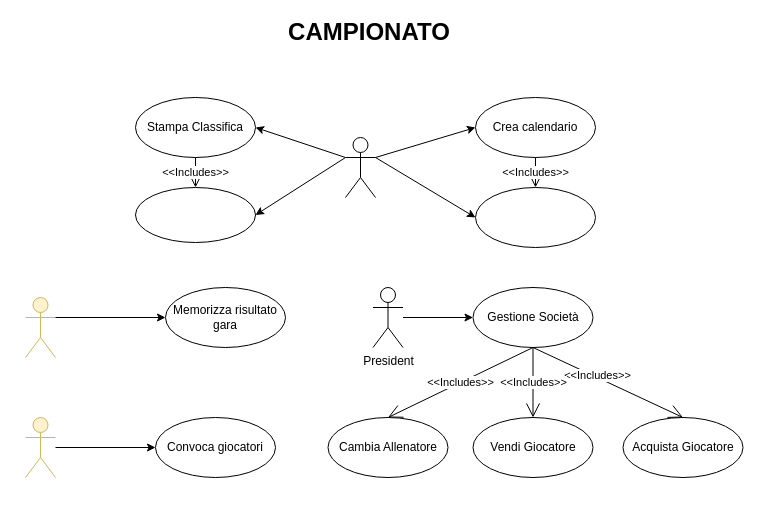
Image size: 761x515. Some labels were removed from this diagram. Each missing label, with the centre of its shape:
Assegna arbitri: the point at 535,217
FIGC: the point at 360,167
Manager: the point at 40,447
Referee: the point at 40,327
Stampa Classifica Girone: the point at 195,214
